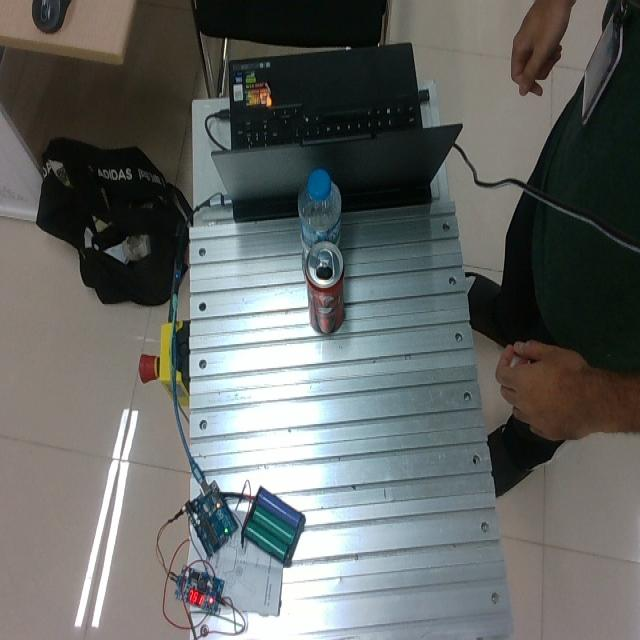coca: (303, 238, 345, 334)
lavie: (297, 167, 342, 268)
